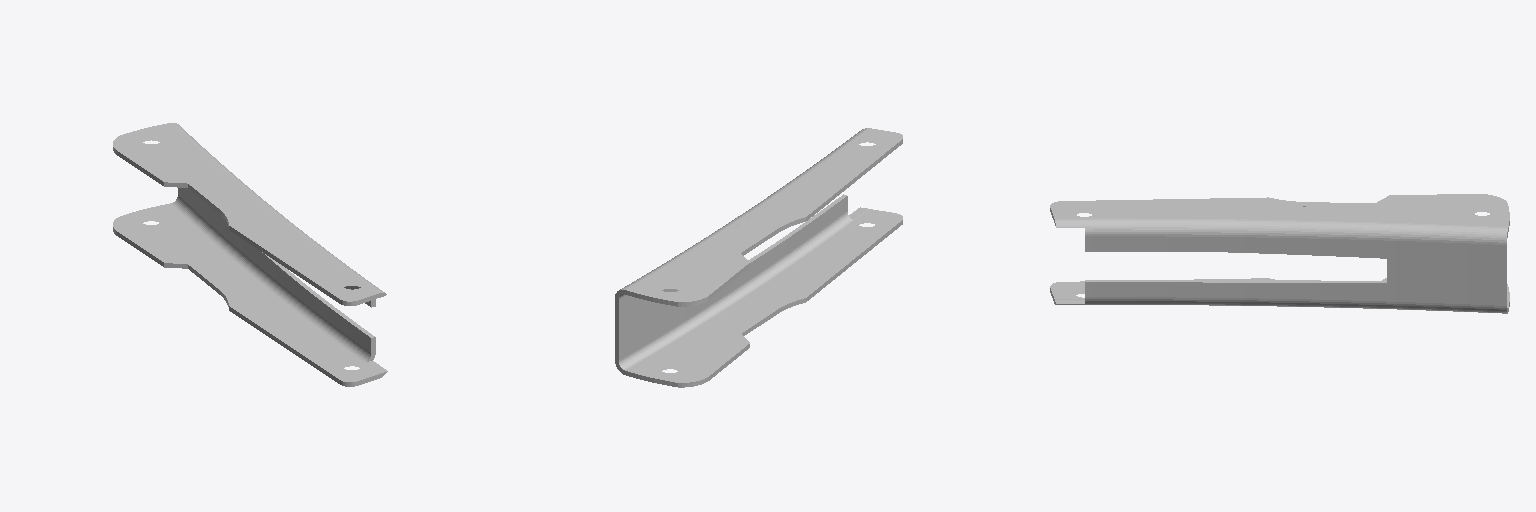
Rendered from original-68.obj.
3 views of the same model, side by side, from view 1: azimuth 30°, elevation 25°; view 2: azimuth 150°, elevation 25°; view 3: azimuth 270°, elevation 25° (orthographic).
Parts seen in each view (by area): view 1: #ID341; view 2: #ID341; view 3: #ID341.
Boxes of the visible parts, box(x1,y1,x2,y2) form: #ID341: box(113, 123, 387, 386); #ID341: box(615, 128, 902, 387); #ID341: box(1050, 194, 1509, 313).
Bounding box in the file's own units: 0.213 × 0.2169 × 1.06.